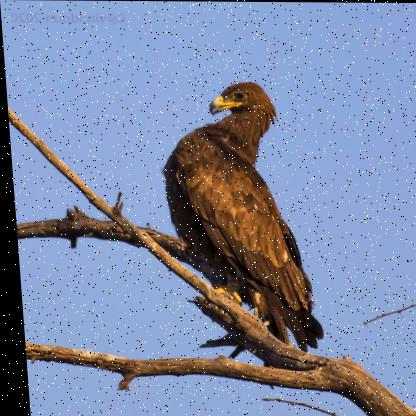Burung: (153, 73, 328, 357)
